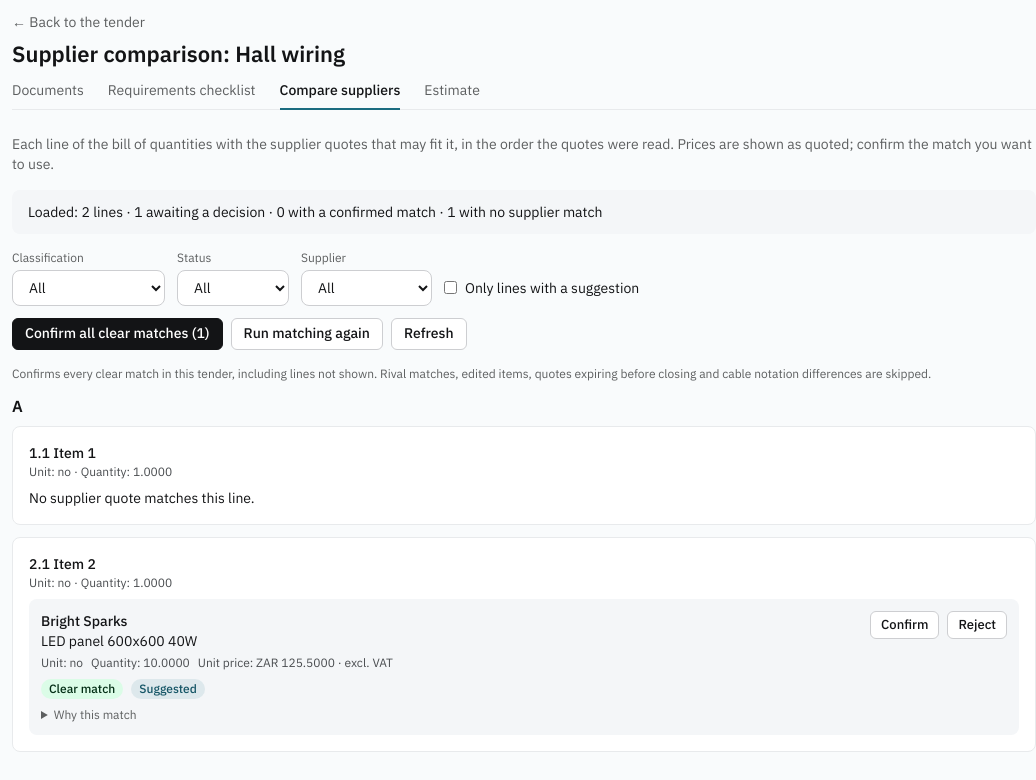
Test: ComparisonView › says 'No suggestions match these filters' for a filtered-out line and does not count it as no match
Expected: the text "No supplier quote matches this line." is shown, [29,488,255,506]
Expected: the text "1 with no supplier match" is shown, [12,190,1035,234]
Select "Confirmed" in the dropdown labelled "Status": (233, 288) [177,270,289,306]
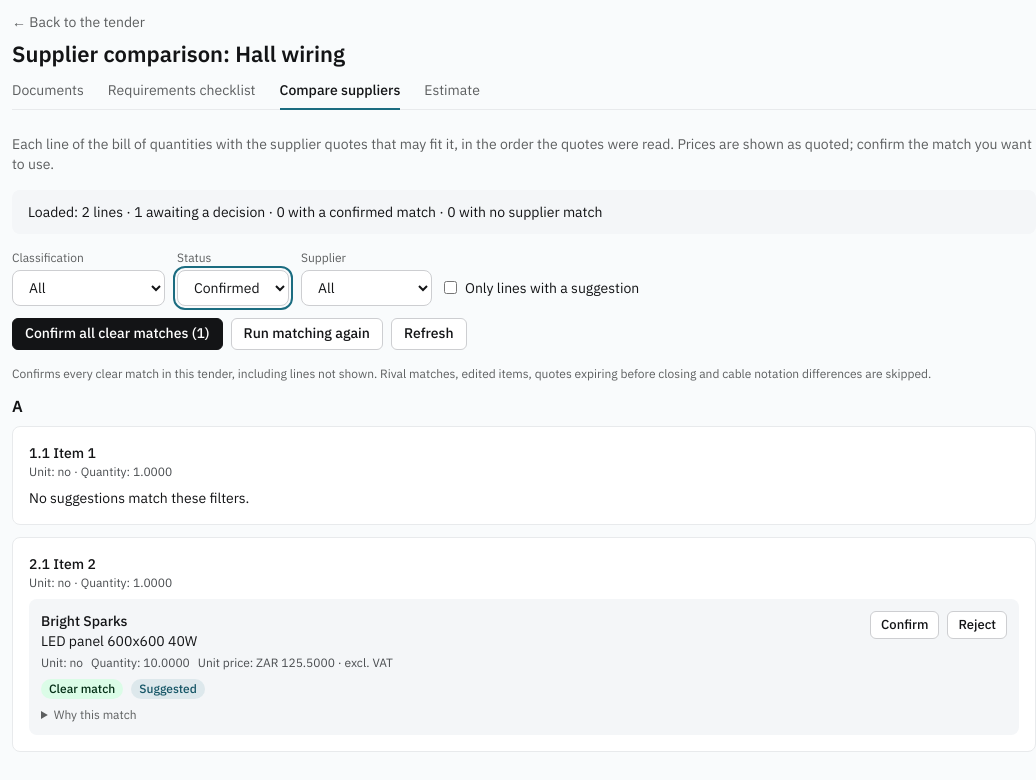
Result: the text "No suggestions match these filters." is shown at [29,488,249,506]
Result: the text "No supplier quote matches this line." is gone
Result: the text "Loaded: 2 lines" shows "0 with no supplier match" at [12,190,1035,234]
